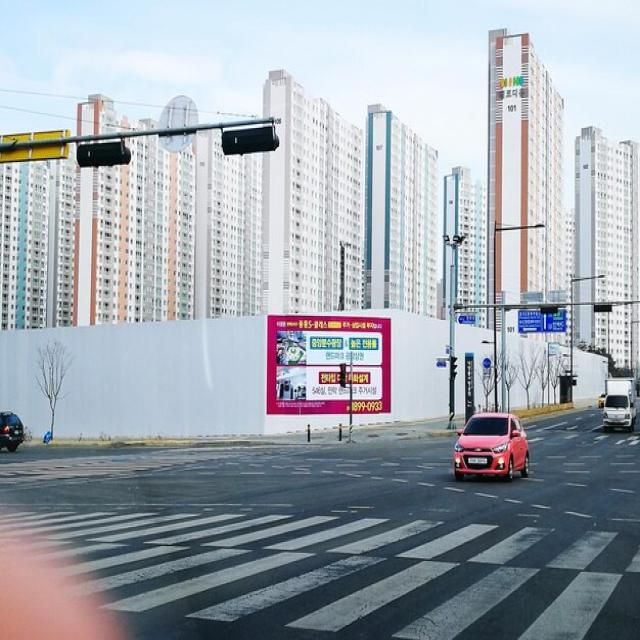Billboard_LHS: (262, 296, 401, 429)
Billboard_overhead_small: (515, 307, 573, 342)
Roadlane: (49, 473, 635, 640)
